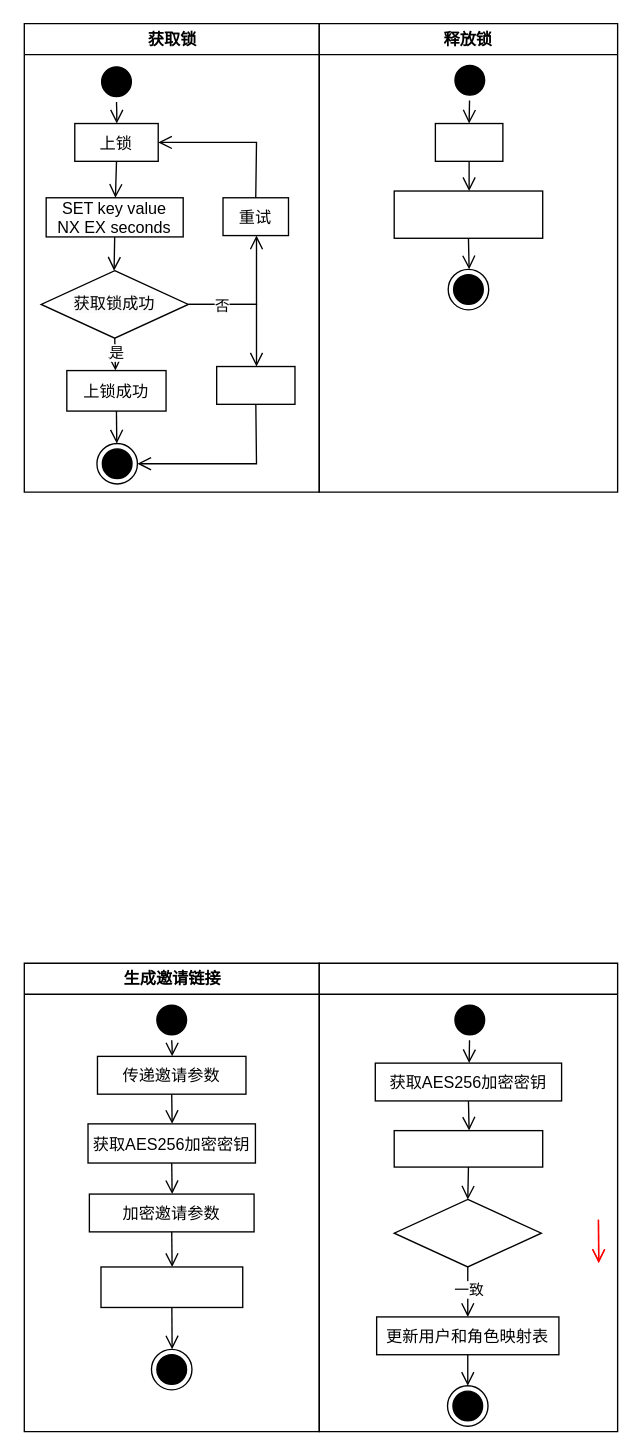
This 641x1455 diagram has some shape labels left out. The box of each missing label's shape, as (x1, y1, x2, y2) in pixels:
上锁失败: (215, 365, 295, 404)
加入团队: (318, 962, 618, 1432)
对比用户id: (393, 1198, 541, 1267)
执行Lua脚本 获取并删除锁: (393, 190, 543, 238)
解密邀请参数: (393, 1129, 543, 1167)
解锁: (434, 122, 503, 161)
返回完整邀请URL: (100, 1266, 243, 1307)
